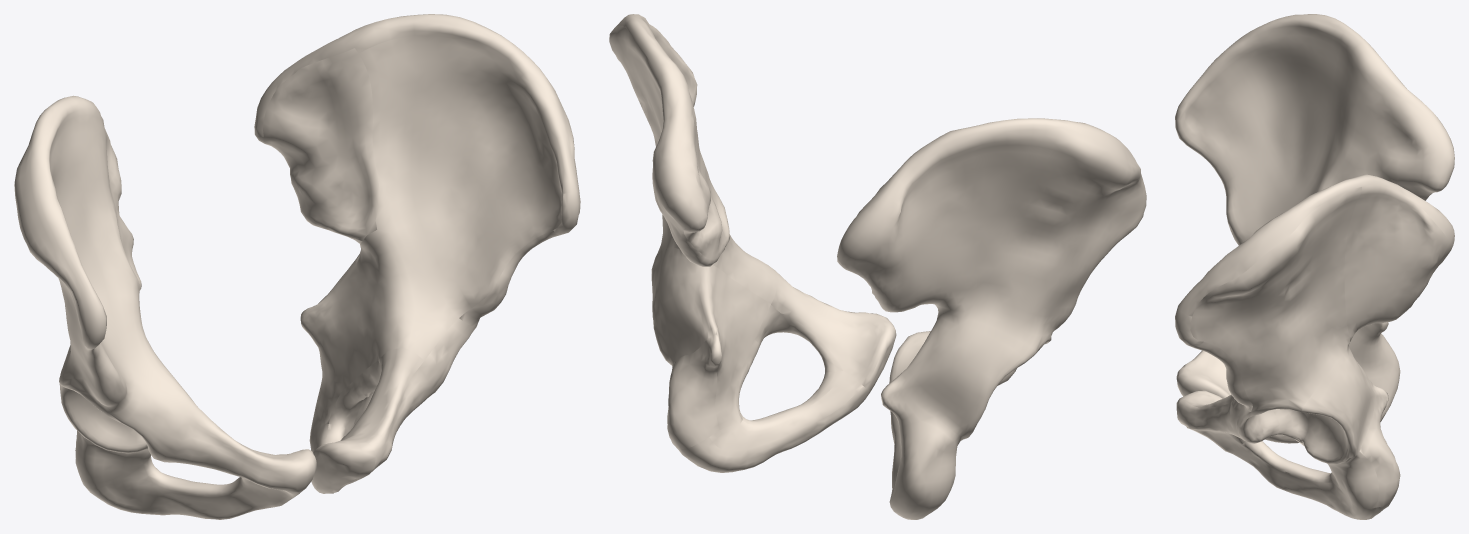
File: pelvis_female.glb
3 renders of one model, left to right at view 1: azimuth 30°, elevation 25°; view 2: azimuth 150°, elevation 25°; view 3: azimuth 270°, elevation 25°, orthographic. The views are drawn at different scales.
Parts seen in each view (by area): view 1: Hip bone.l, Hip bone.r; view 2: Hip bone.r, Hip bone.l; view 3: Hip bone.l, Hip bone.r.
Boxes of the visible parts, bbox=[...] form: Hip bone.l: bbox=[254, 14, 580, 493]; Hip bone.r: bbox=[14, 95, 316, 519]; Hip bone.r: bbox=[837, 118, 1146, 519]; Hip bone.l: bbox=[609, 14, 896, 472]; Hip bone.l: bbox=[1175, 174, 1454, 519]; Hip bone.r: bbox=[1175, 14, 1454, 443].
Bounding box in the file's own units: 0.2697 × 0.209 × 0.1416.
